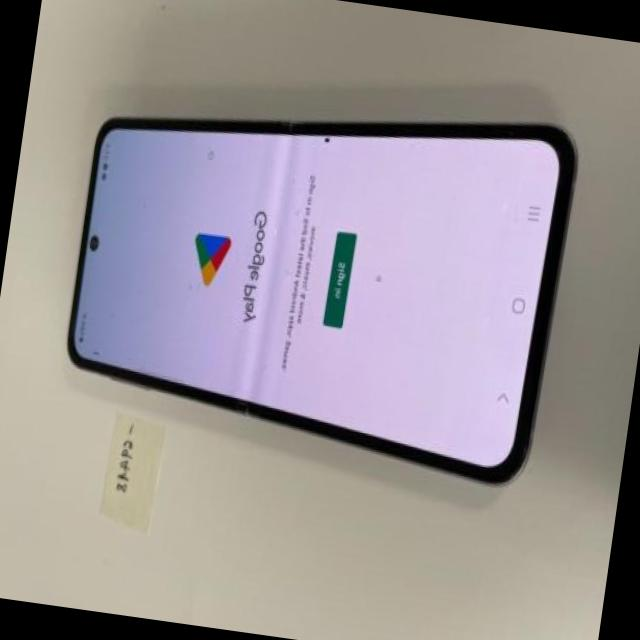dead pixel: (304, 112, 348, 166), (358, 258, 396, 302)
